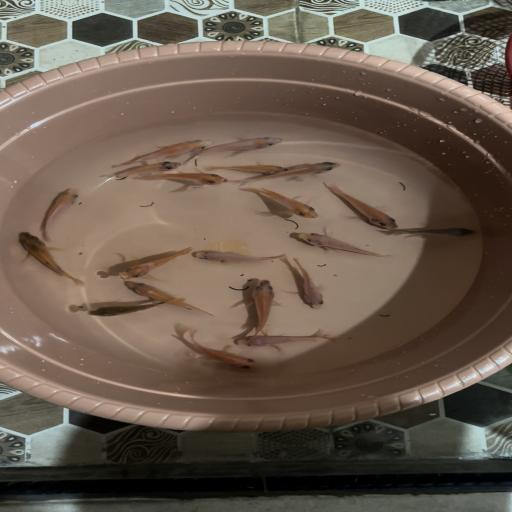nila: (14, 231, 86, 288), (181, 327, 260, 372), (121, 281, 218, 317), (323, 183, 398, 229), (293, 230, 397, 262), (186, 132, 286, 165), (108, 136, 214, 166), (236, 158, 341, 188), (239, 186, 321, 221), (118, 245, 194, 282), (36, 186, 84, 242), (88, 296, 188, 321), (284, 256, 328, 312), (234, 329, 338, 352), (188, 245, 288, 264), (104, 160, 182, 182), (133, 172, 235, 188), (247, 278, 275, 334), (379, 226, 480, 239), (207, 161, 290, 175)
